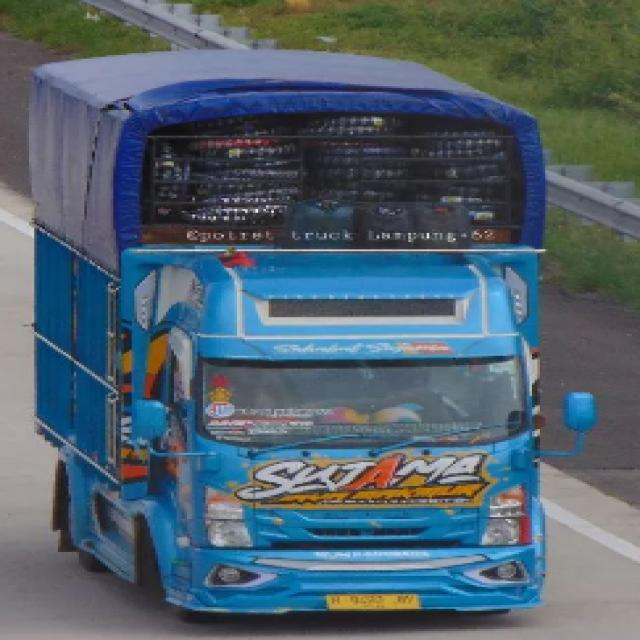truck: (15, 36, 612, 633)
